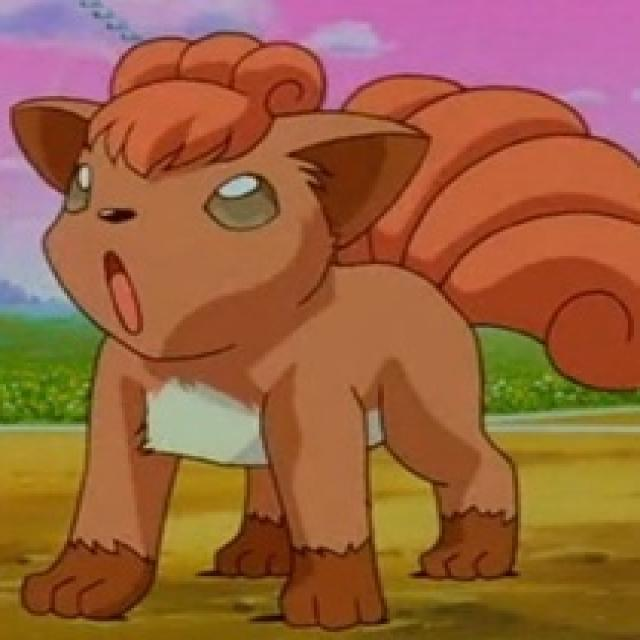Vulpix: (0, 69, 529, 640)
